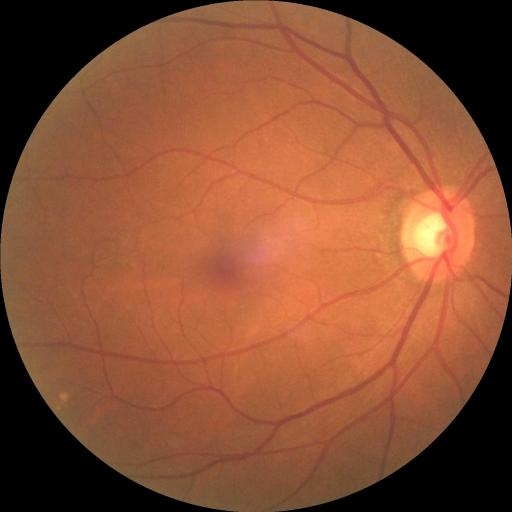Optic Cup: (415, 213, 452, 256)
Optic Disc: (400, 185, 476, 281)
